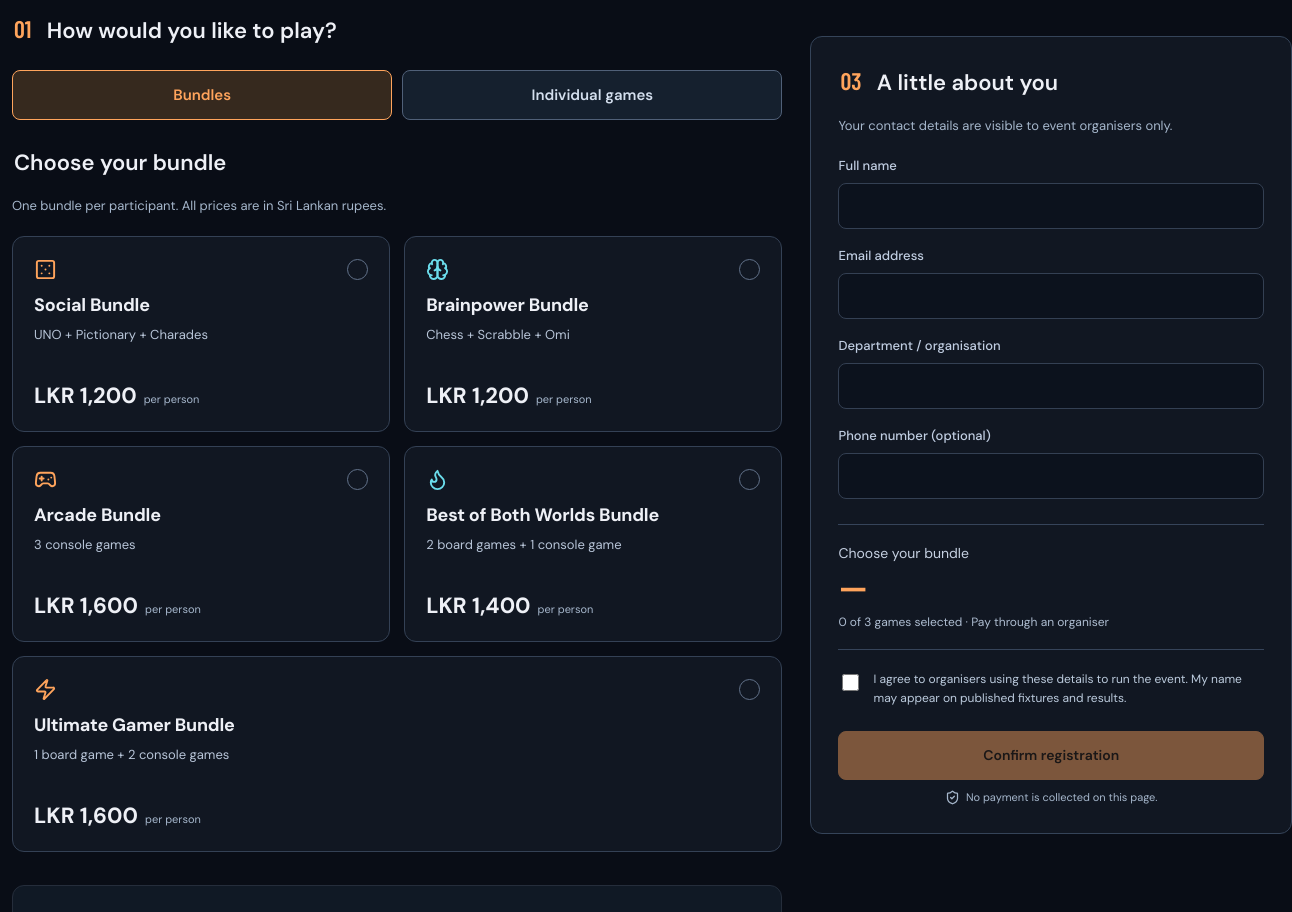
Scenario: submits a fixed bundle with contact information and shows an unpaid receipt
Click the radio button labelled "Social Bundle" at (201, 334), box [12,236,390,432]
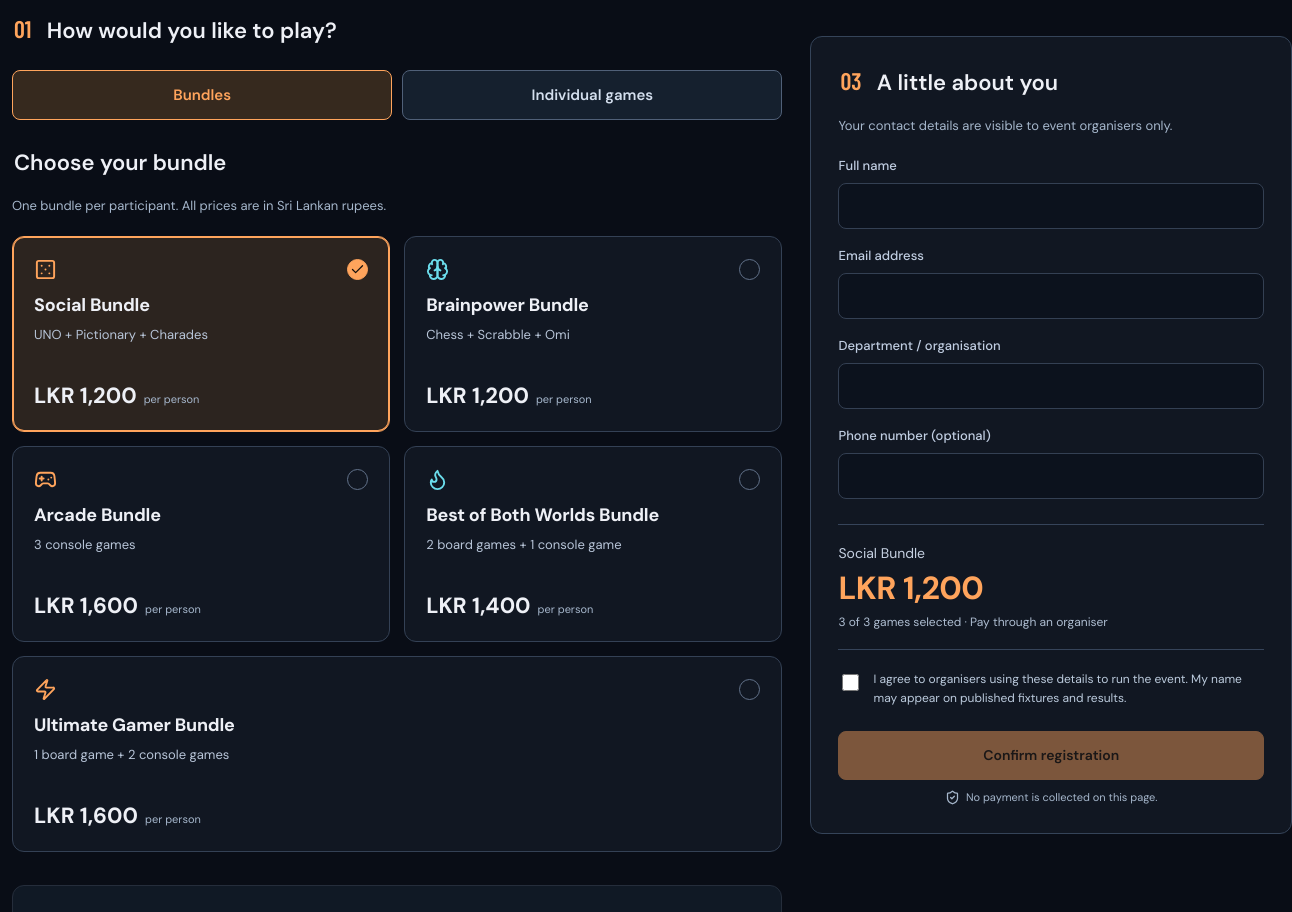
Type "Alex Test" into the field labelled "Full name" at (1051, 206), box [838,183,1264,229]
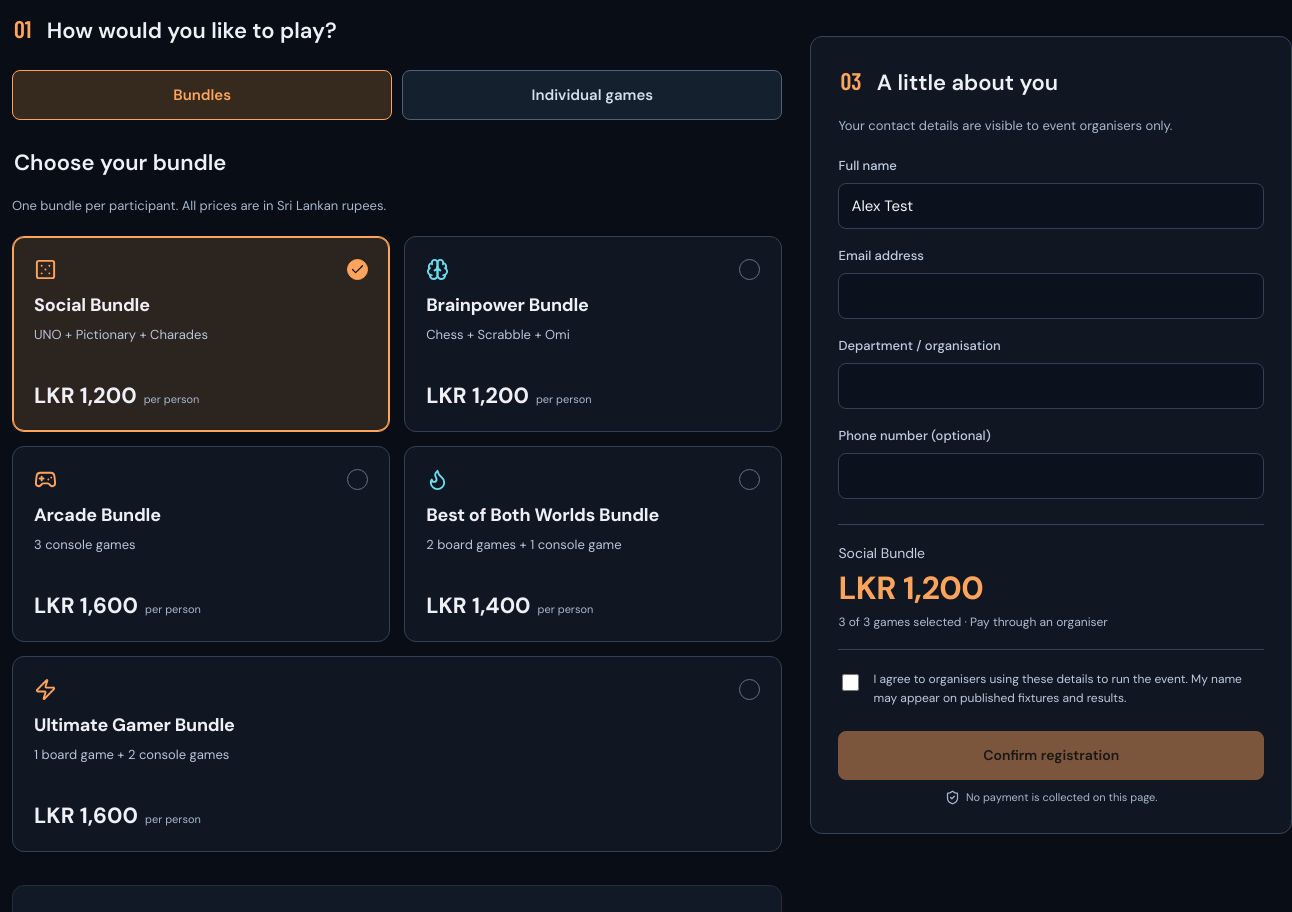
Type "alex@example.test" into the field labelled "Email address" at (1051, 296), box [838,273,1264,319]
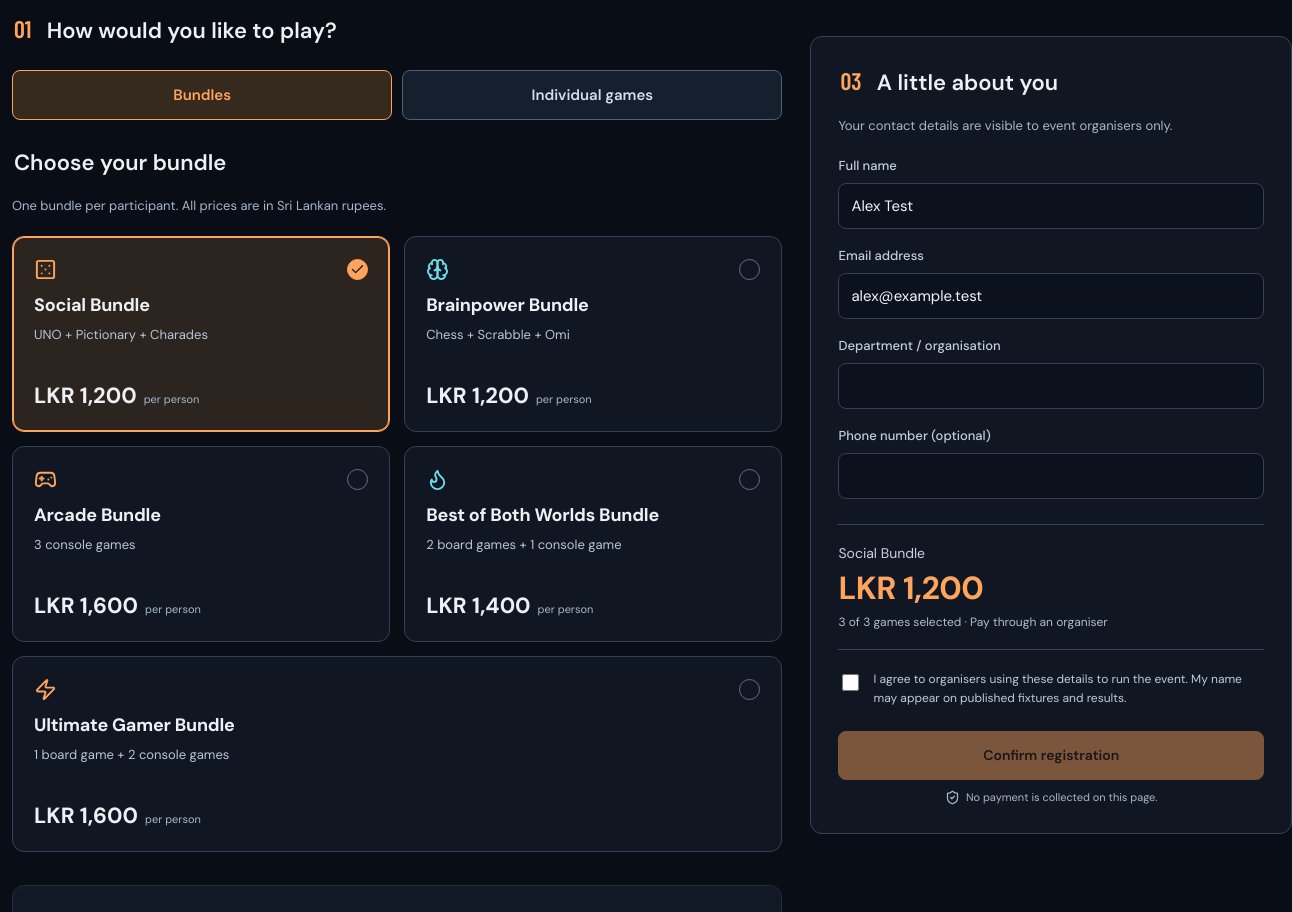
Type "Finance" into the field labelled "Department / organisation" at (1051, 386), box [838,363,1264,409]
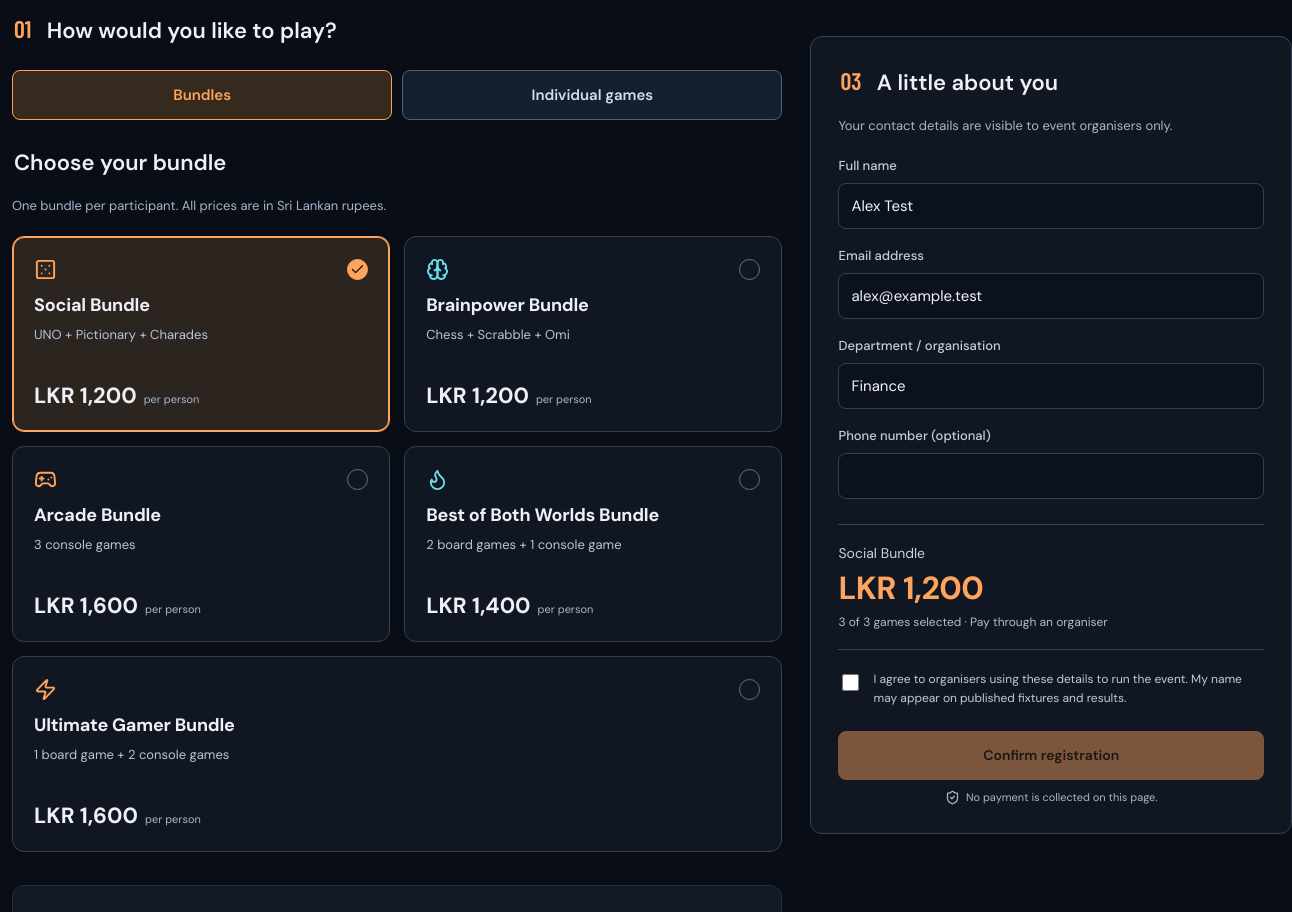
Click the checkbox labelled "I agree" at (851, 682), box [842,674,860,691]
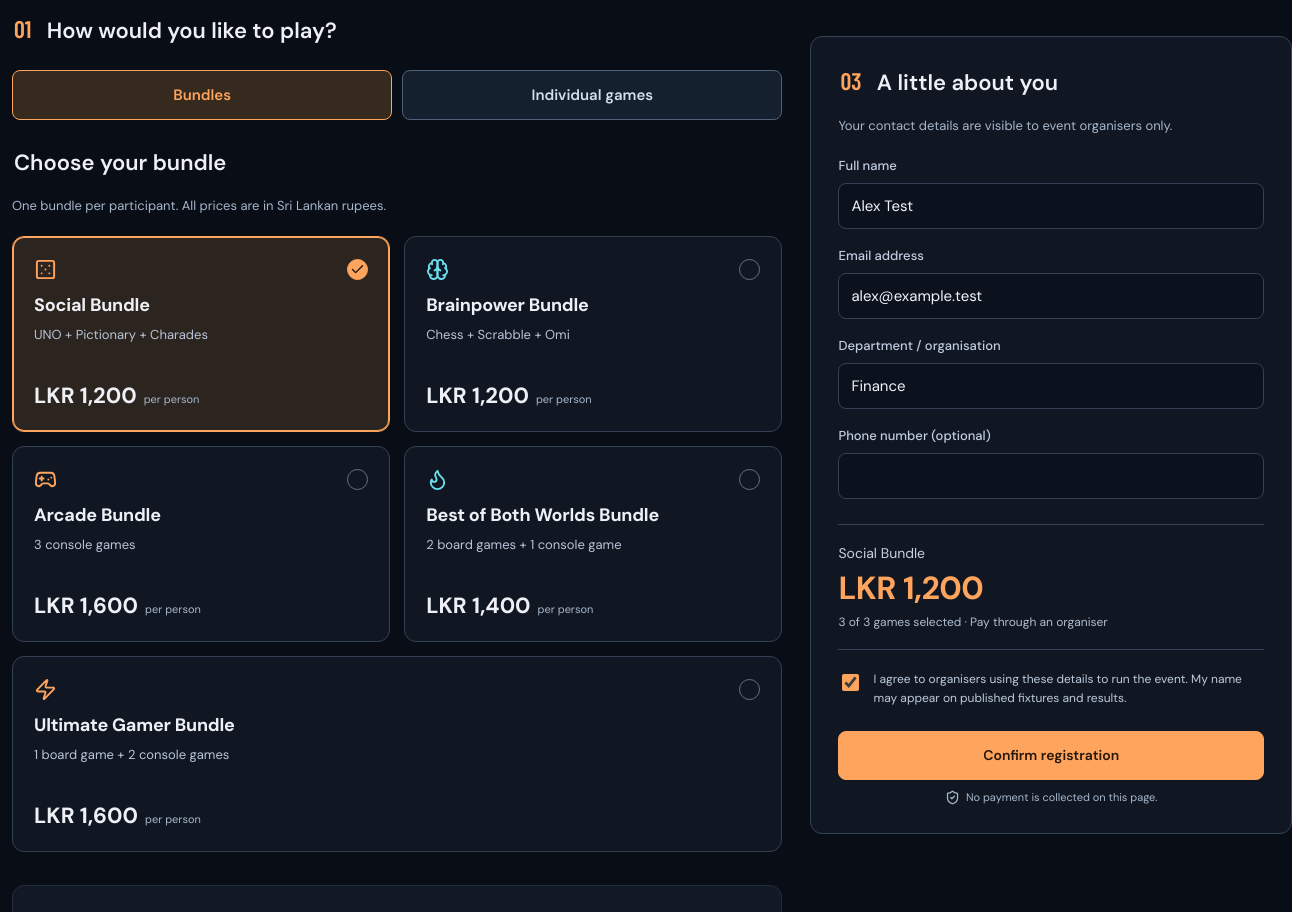
Click the button "Confirm registration" at (1051, 756), box [838,731,1264,780]
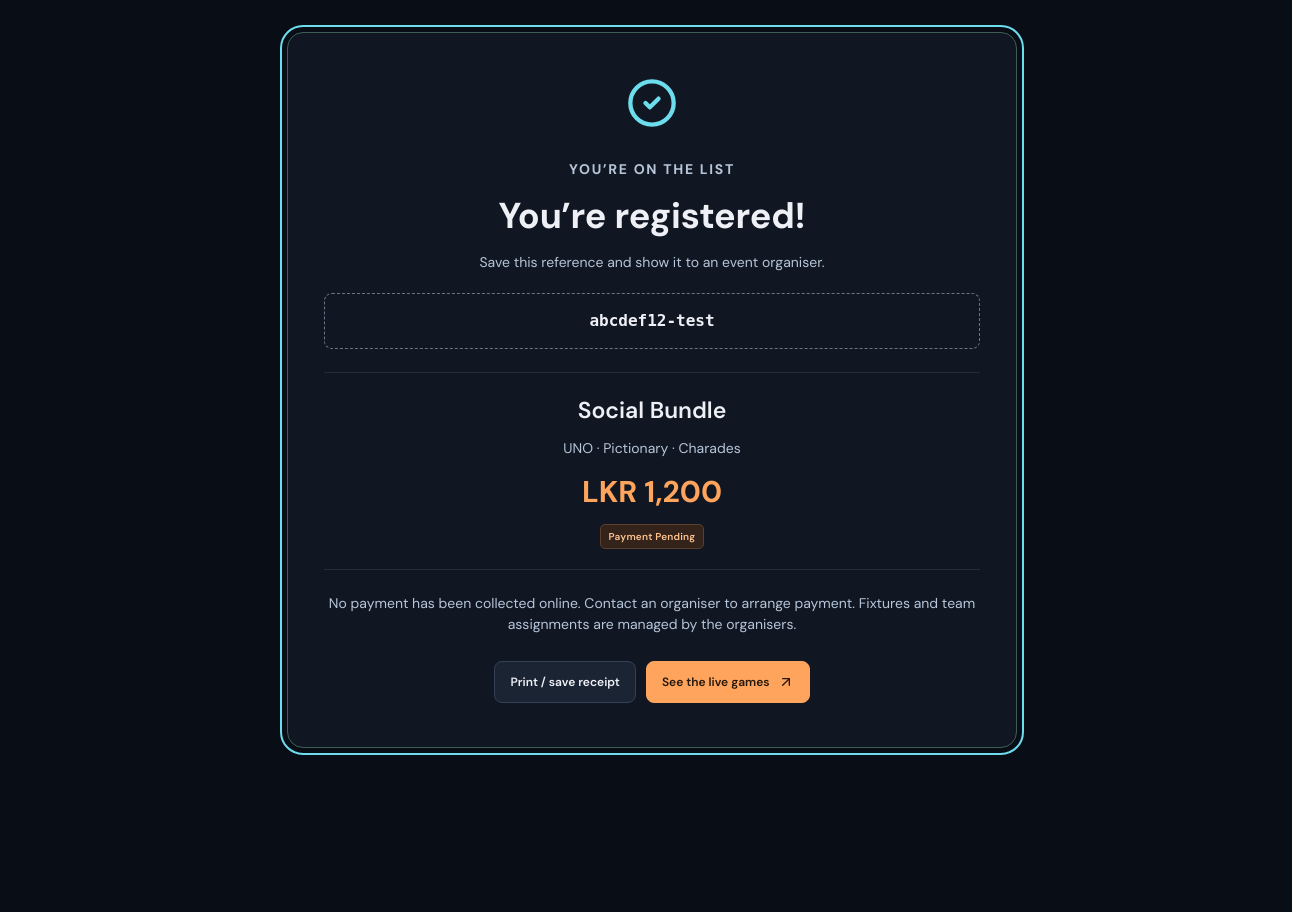
expect the heading "You’re registered!" is shown: met, box [498,192,806,239]
expect the text "Payment pending" is shown: met, box [600,524,704,549]
